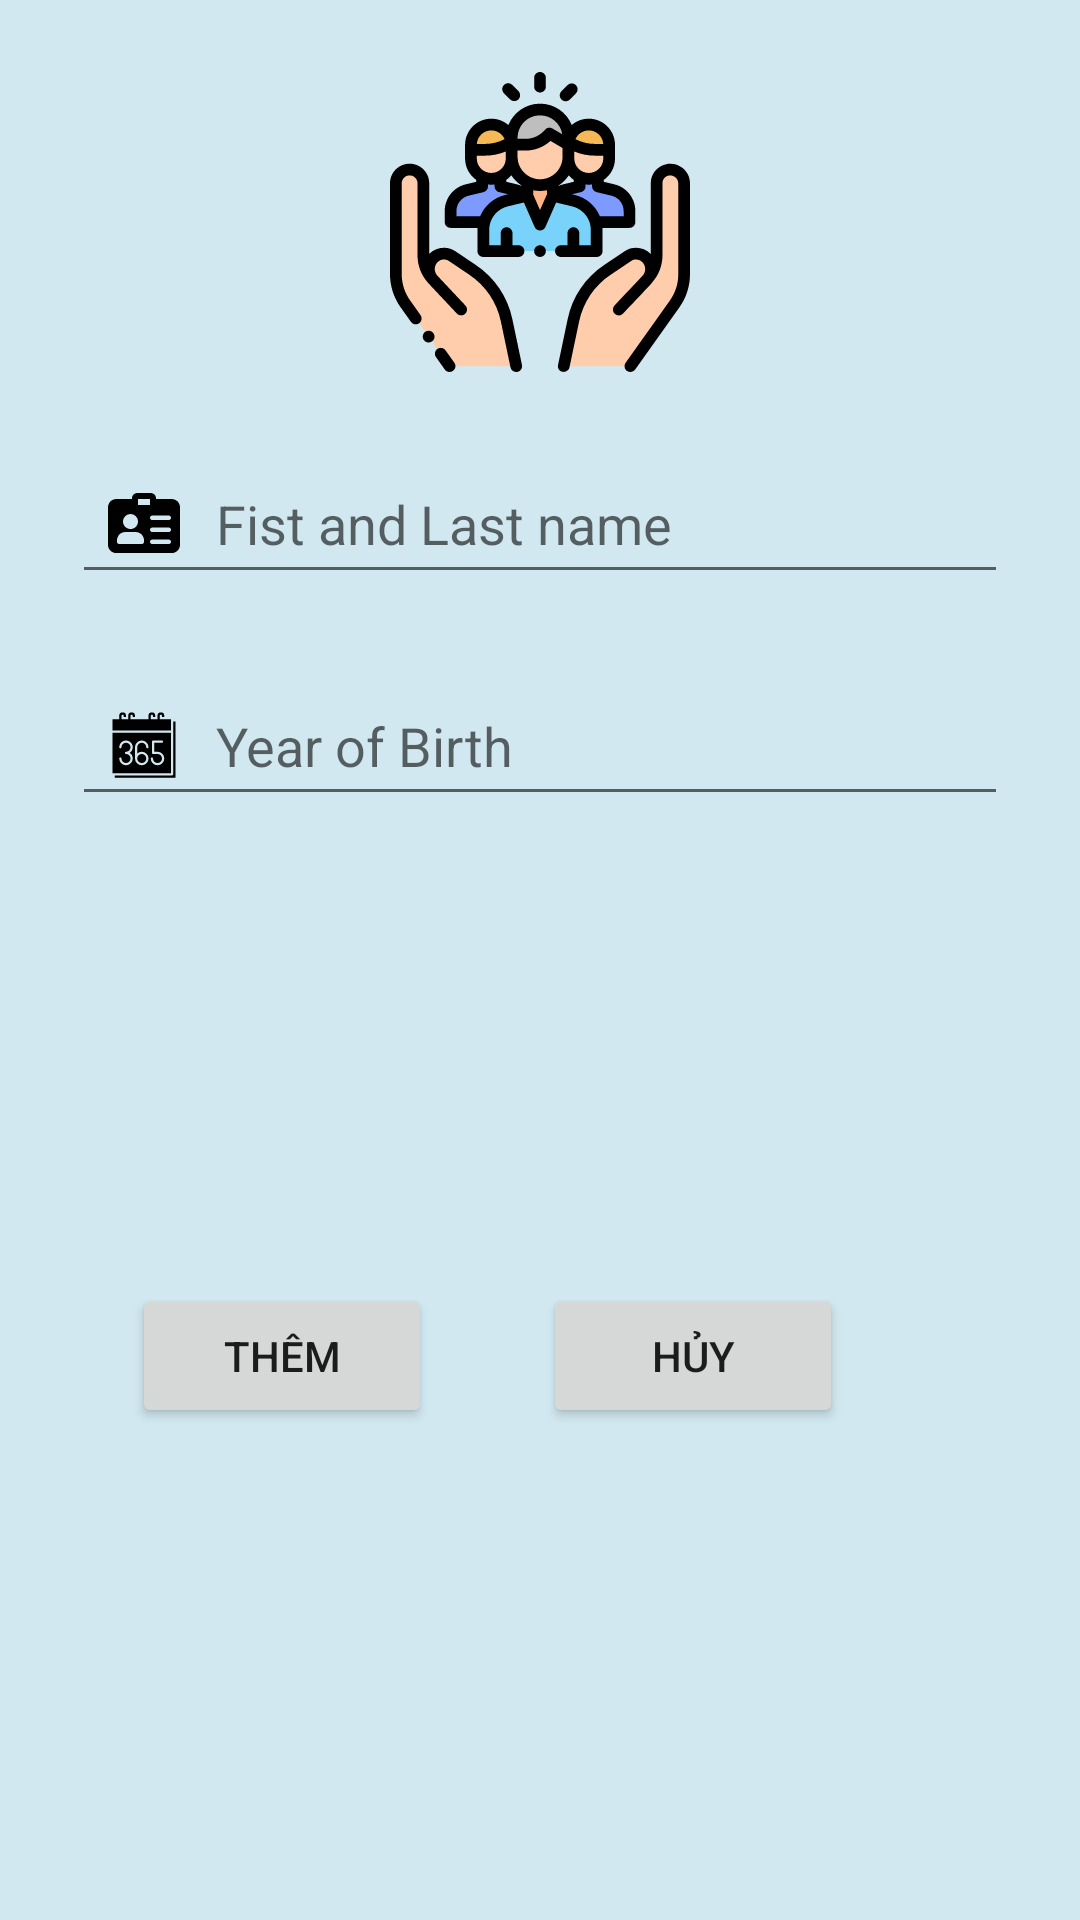

Icon click points for this 1080 × 1920 phone screenshot, format (x=x, y=y):
socialcare: (x=540, y=222)
